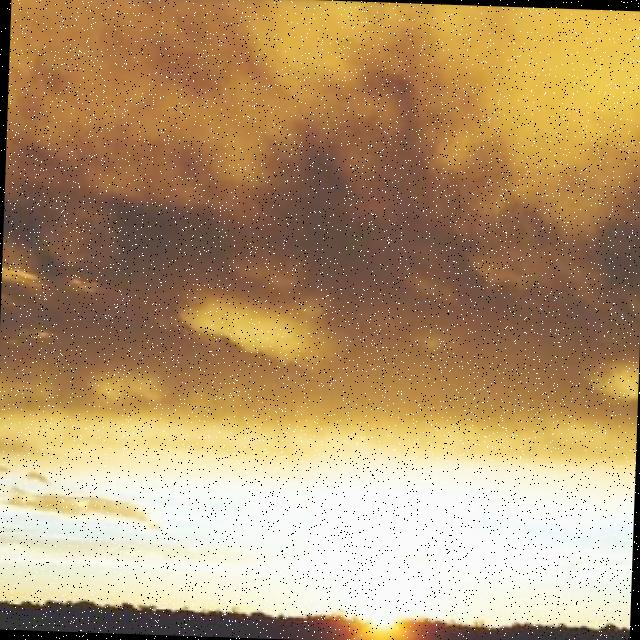As: (1, 3, 640, 564)
